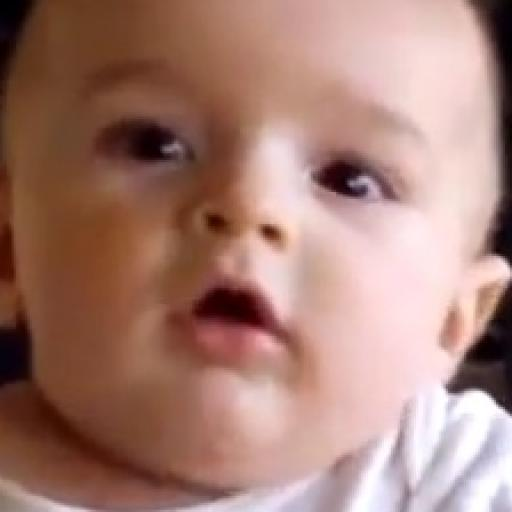Autism: (15, 6, 487, 496)
